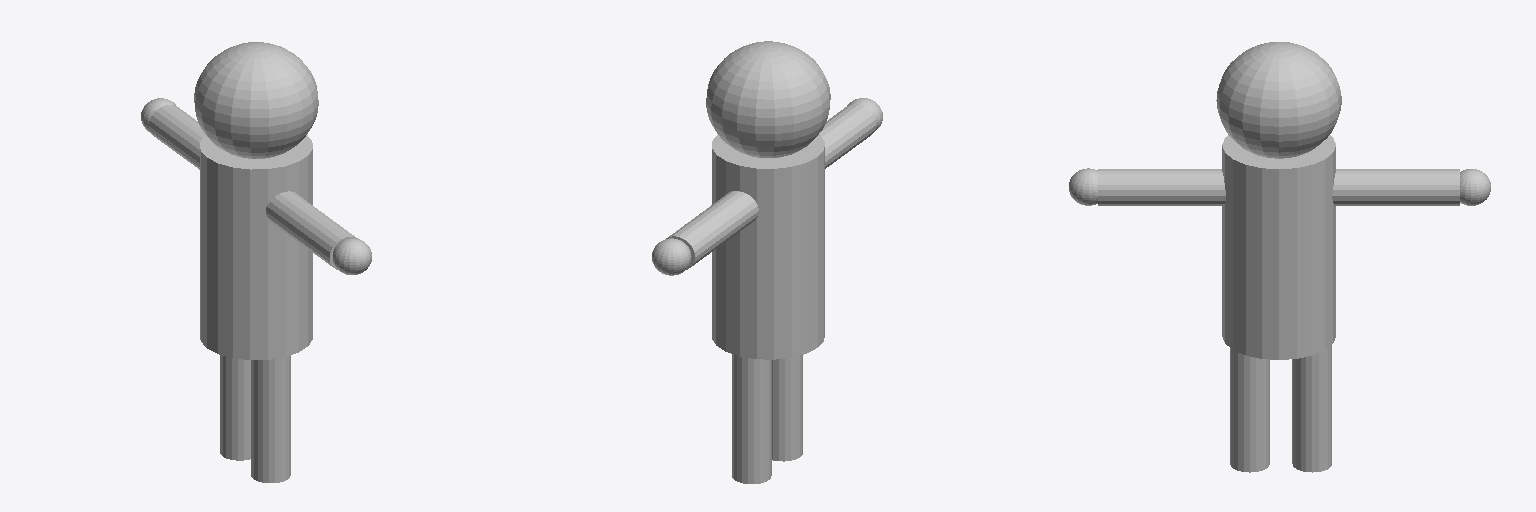
File: CharacterModel.obj
The picture shows the model from 3 angles: view 1: azimuth 30°, elevation 25°; view 2: azimuth 150°, elevation 25°; view 3: azimuth 270°, elevation 25°; orthographic projection.
Parts seen in each view (by area): view 1: PC; view 2: PC; view 3: PC.
Boxes of the visible parts, <box> form: PC: <box>141,42,371,482</box>; PC: <box>652,41,882,483</box>; PC: <box>1069,42,1490,472</box>.
Bounding box in the file's own units: 3.56 × 13.04 × 12.